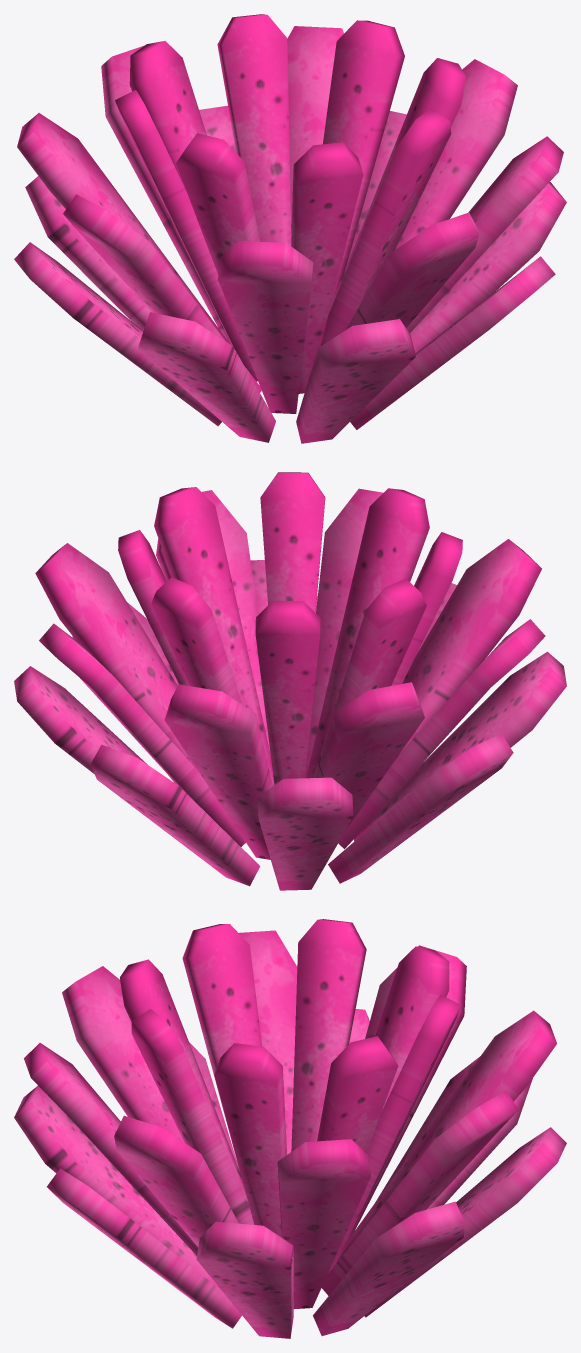
Rendered from Coral_2.fbx.
The picture shows the model from 3 angles, top to bottom: view 1: azimuth 30°, elevation 25°; view 2: azimuth 150°, elevation 25°; view 3: azimuth 270°, elevation 25°; orthographic projection. The views are drawn at different scales.
Parts seen in each view (by area): view 1: Cylinder.006; view 2: Cylinder.006; view 3: Cylinder.006.
Boxes of the visible parts, left/top/right/bottom form: Cylinder.006: left=14, top=14, right=566, bottom=443; Cylinder.006: left=14, top=472, right=566, bottom=890; Cylinder.006: left=14, top=919, right=566, bottom=1338.
Size of the model in its own units: 23.87 by 15.3 by 23.87.
1 material, 1 textured.
